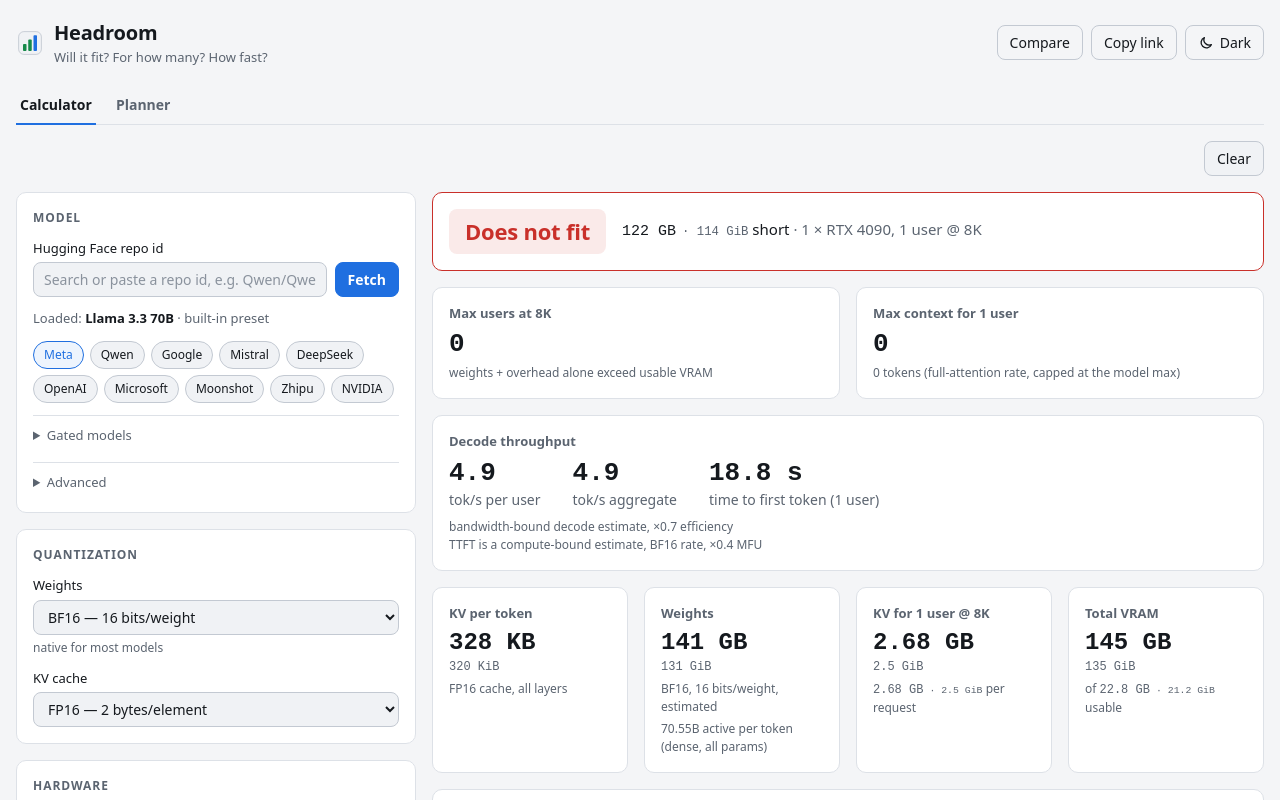
App › compare mode: duplicating the config then editing the new column updates the compare table
// Turning Compare on starts from column B: a duplicate of the current (only) config.
Click the button "Compare" at (1040, 43), box [997, 25, 1083, 60]
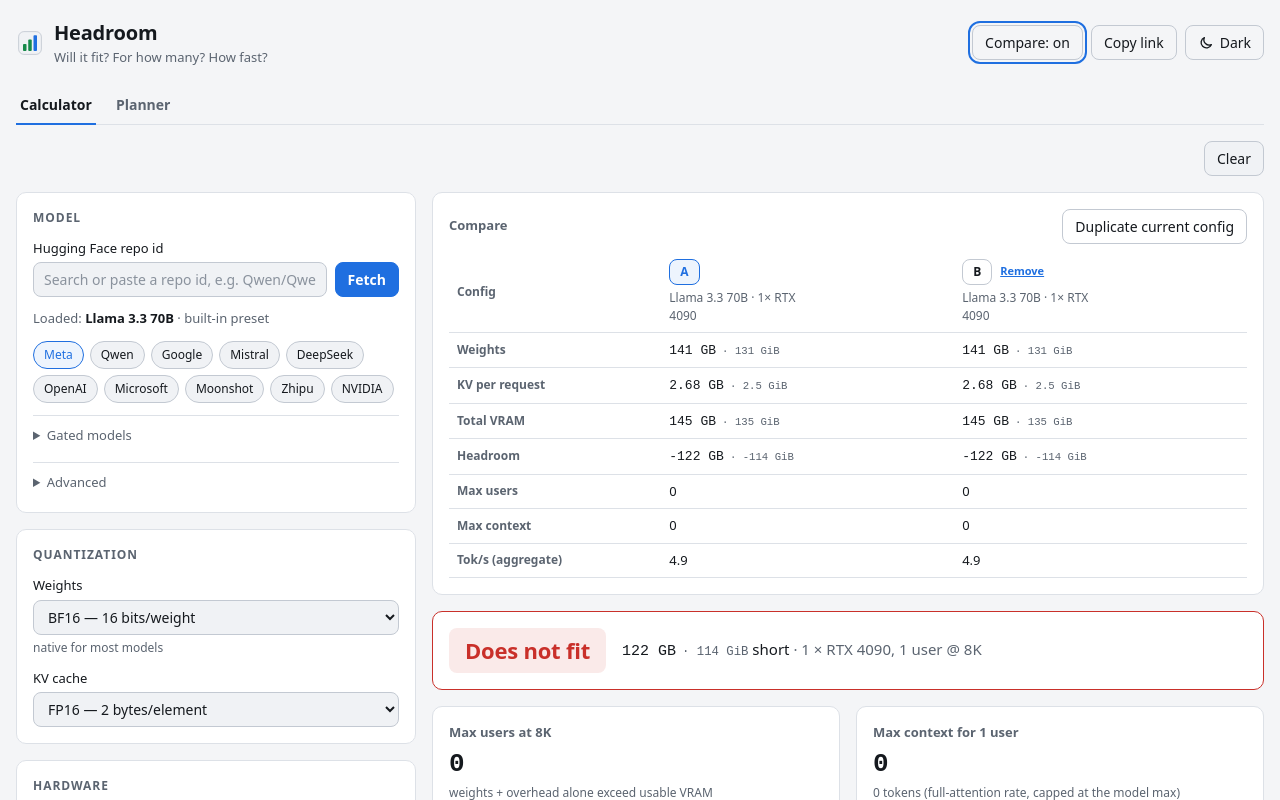
Check: the button "A" is shown, box [669, 258, 700, 284]
Check: the button "B" is shown
// Select column B, so the edit below lands on B, not A.
Click the button "B" at (977, 272), box [962, 258, 992, 284]
(page scrolled)
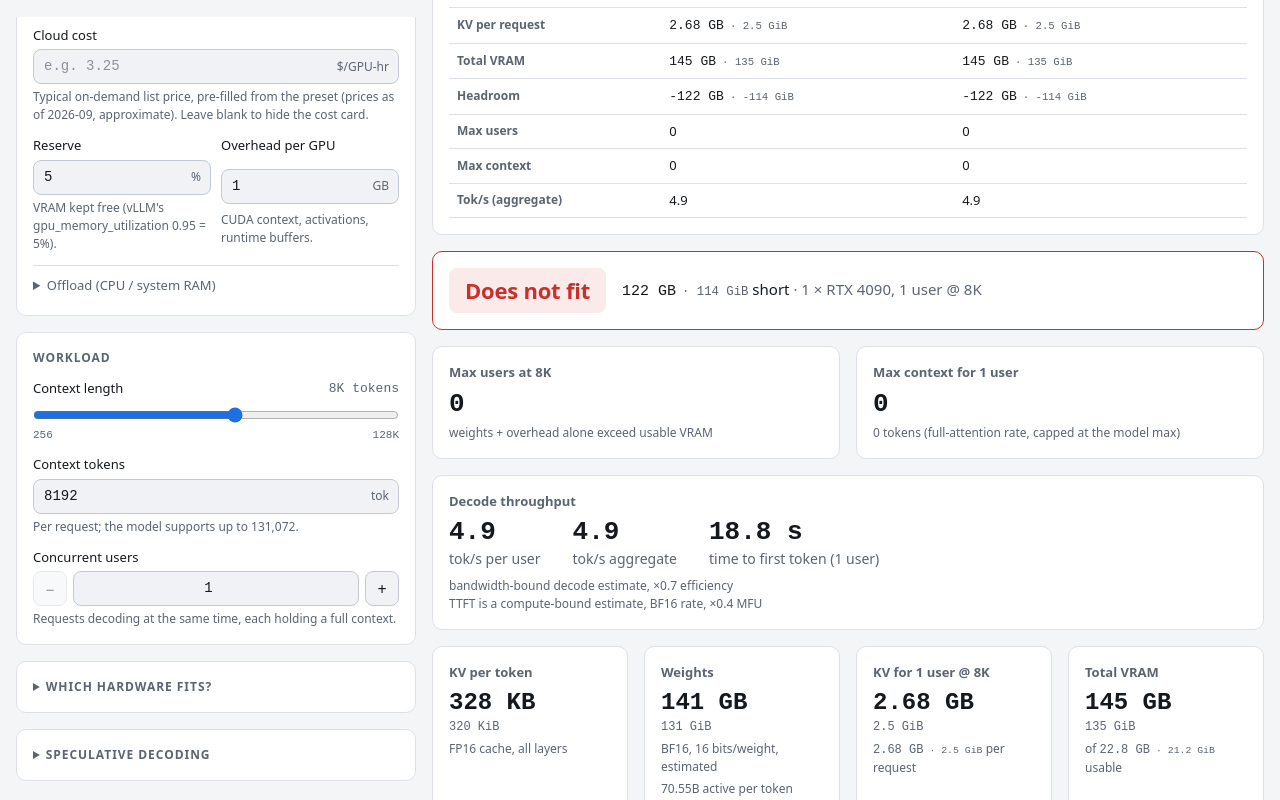
Replace the text in the number field labelled "Concurrent users" with "32" at (216, 588), box [73, 570, 359, 606]
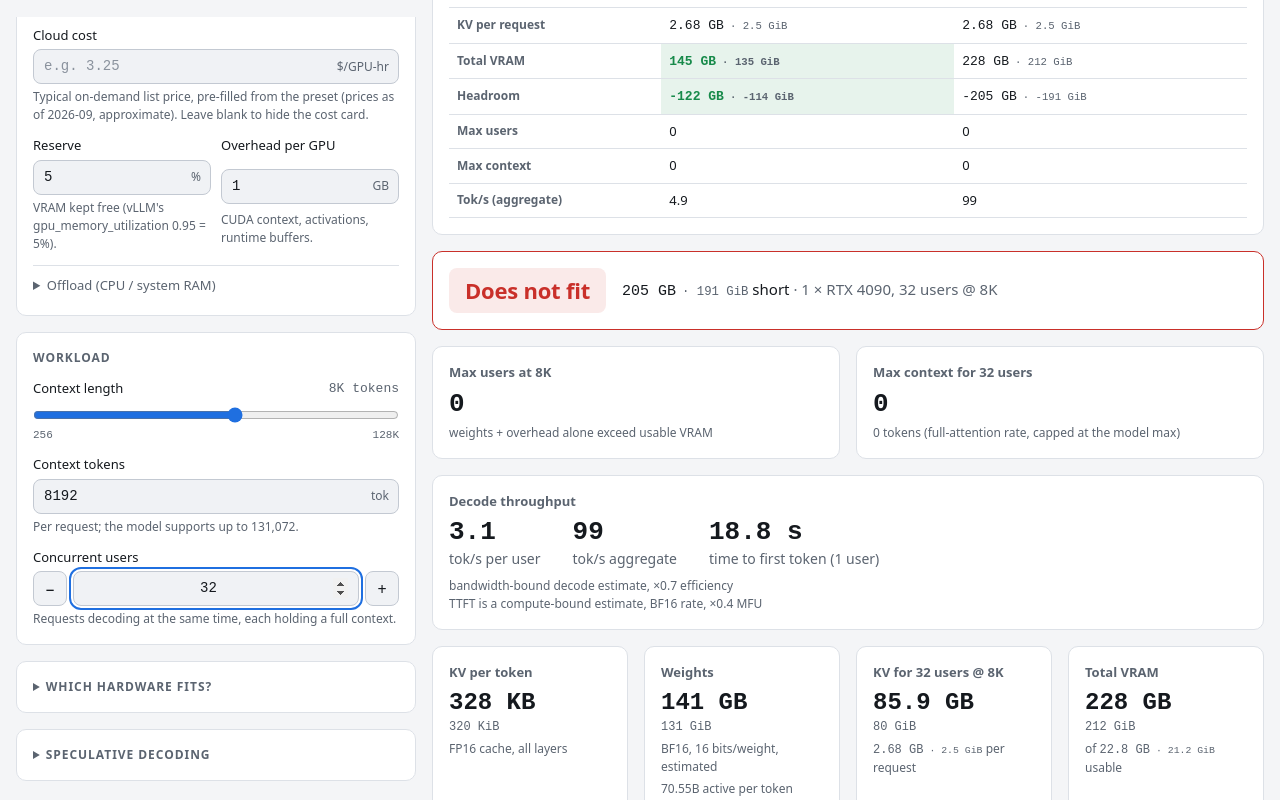
Press Tab
(page scrolled)
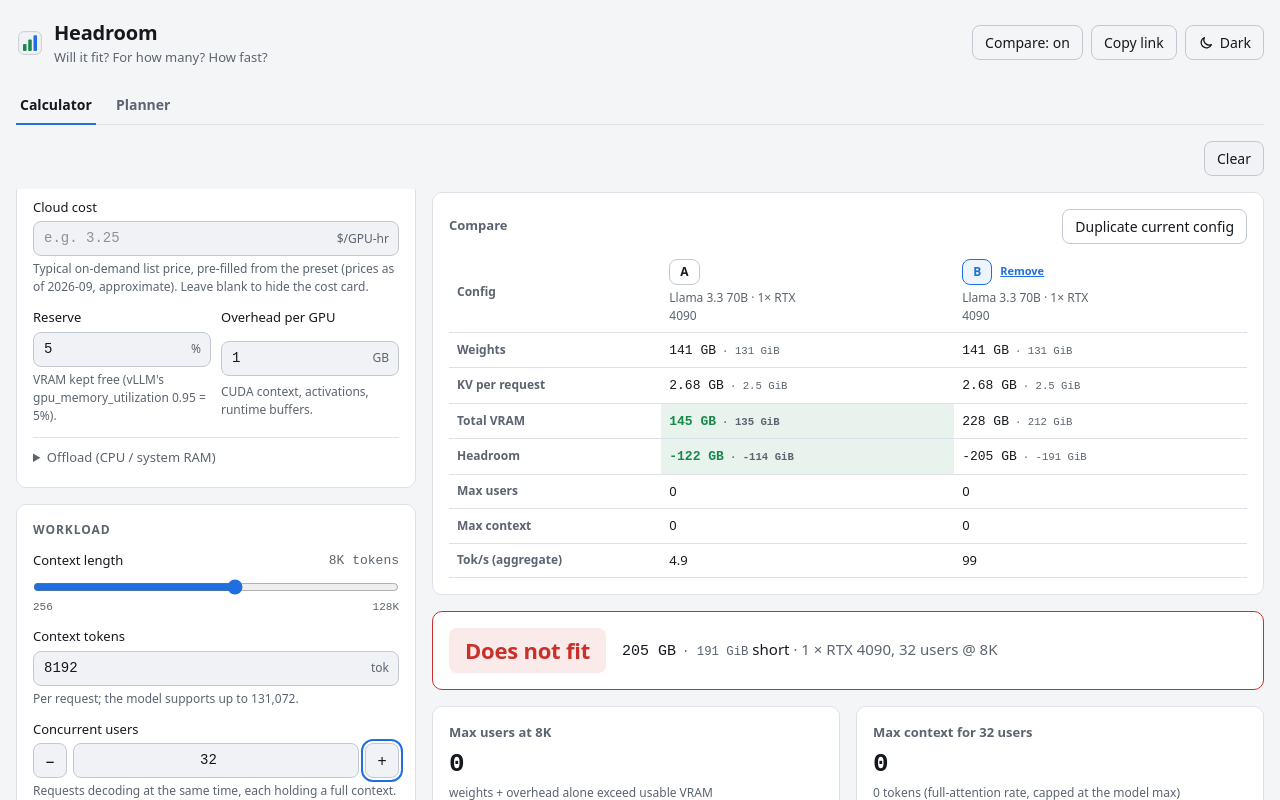
Check: the cell "145 GB 135 GiB" has class "compare-best", box [661, 403, 954, 438]
// Switching back to A edits A, not B, and leaves B's column untouched.
Click the button "A" at (684, 272), box [669, 258, 700, 284]
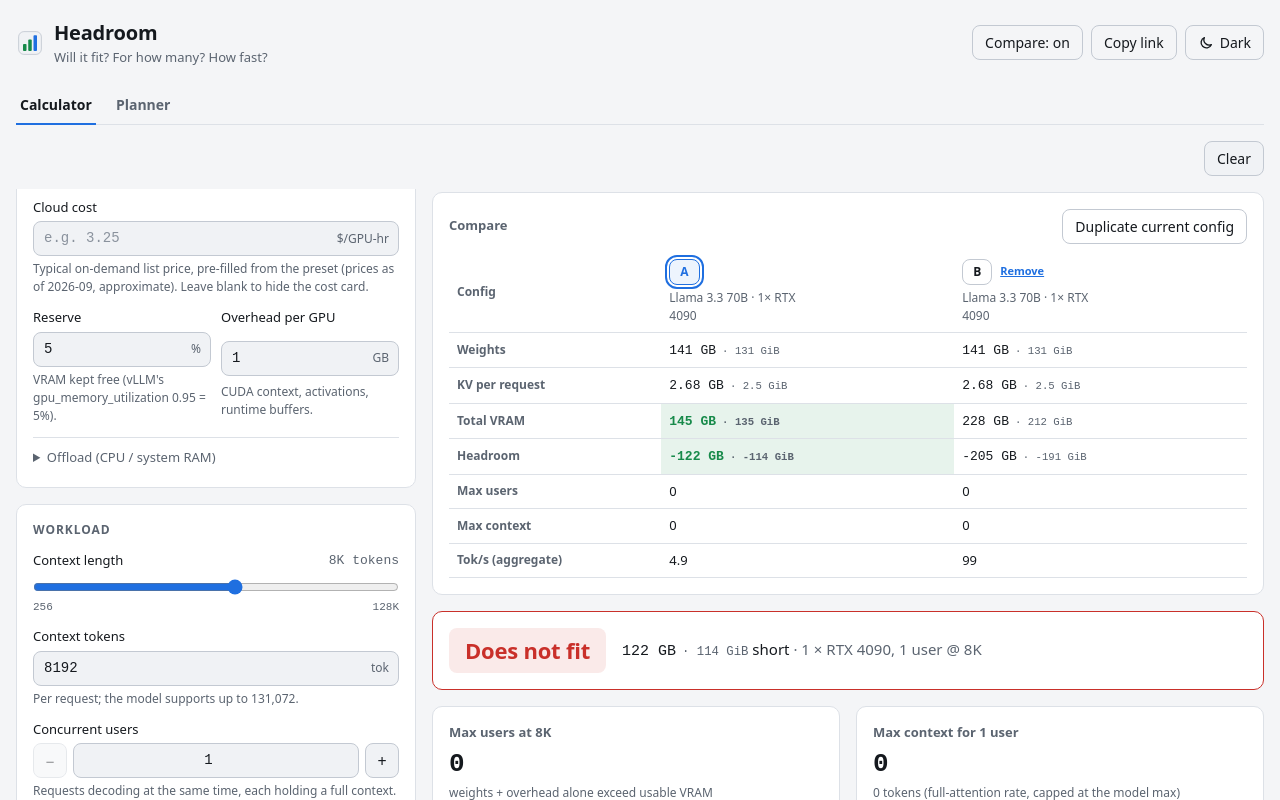
Check: the number field labelled "Concurrent users" holds "1", box [73, 743, 359, 778]
